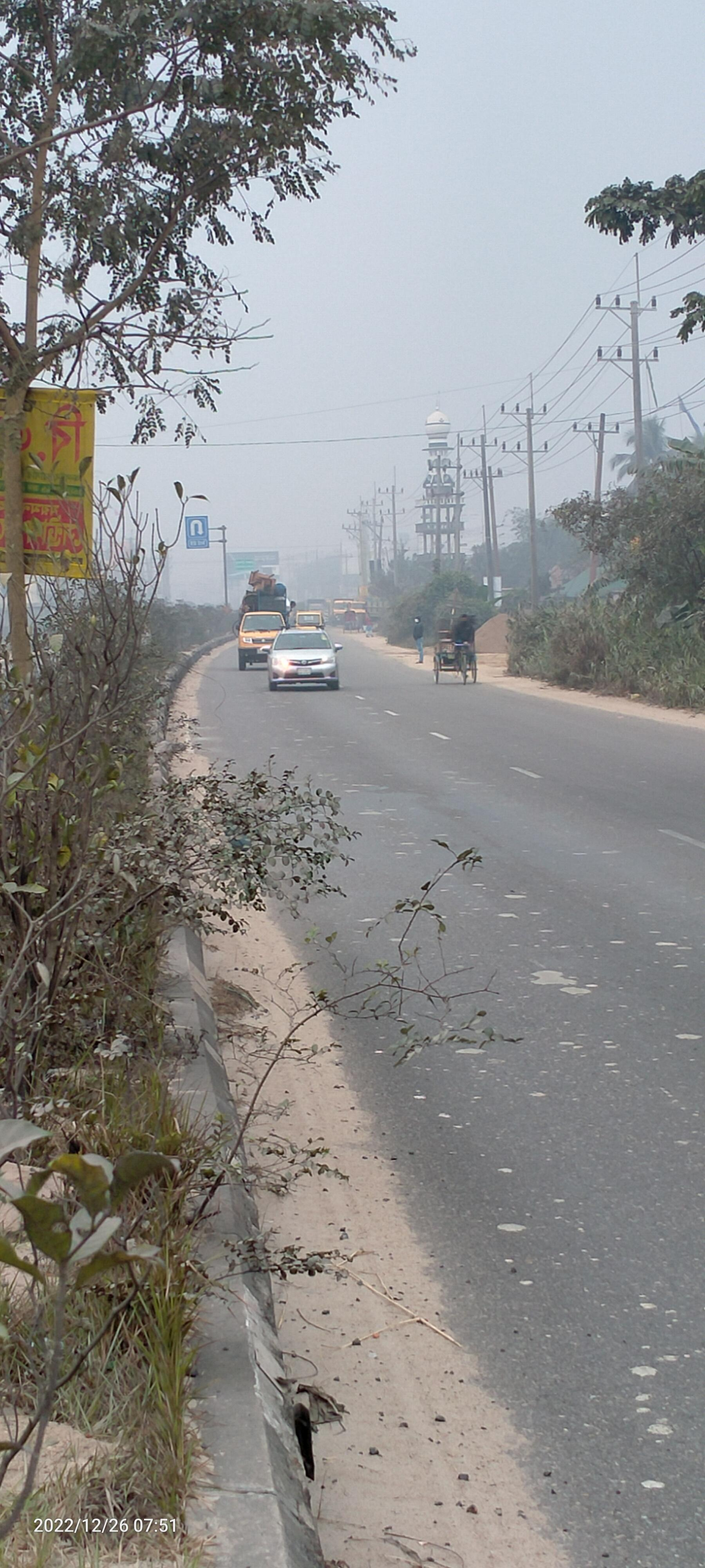Car: (253, 624, 357, 699)
Truck: (225, 568, 294, 673), (292, 607, 329, 634)
